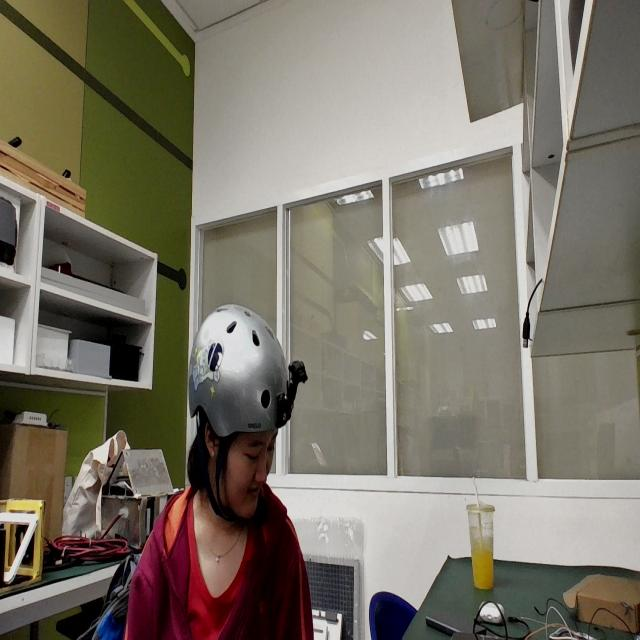With Helmet: (175, 283, 323, 569)
